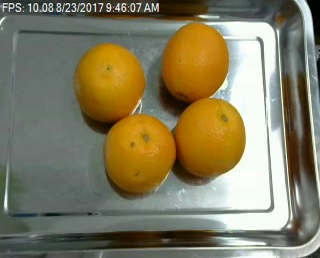Orange: (102, 114, 175, 191), (175, 97, 246, 176), (75, 42, 145, 120), (161, 21, 229, 100)
